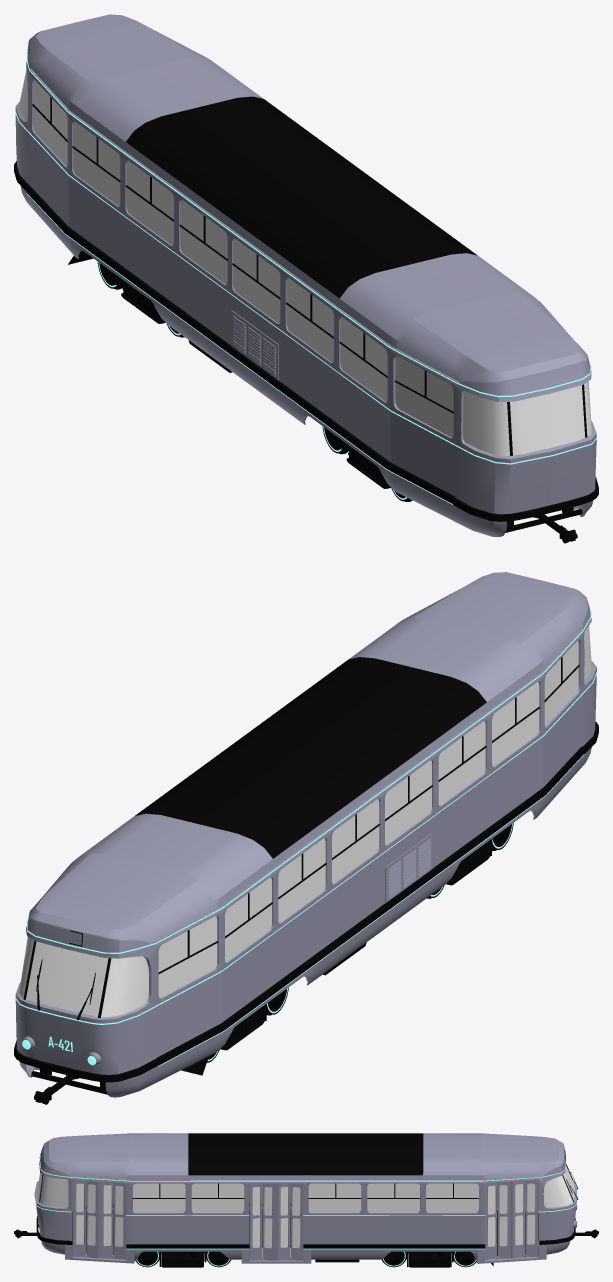
The model's file is SM_Tram.fbx.
3 views of the same model, one above another, from view 1: azimuth 30°, elevation 25°; view 2: azimuth 150°, elevation 25°; view 3: azimuth 270°, elevation 25° (orthographic). The views are drawn at different scales.
Parts seen in each view (by area): view 1: Mesh_Tram; view 2: Mesh_Tram; view 3: Mesh_Tram.
Part boxes in pixels (<box>): Mesh_Tram: <box>14,14,598,543</box>; Mesh_Tram: <box>14,572,598,1104</box>; Mesh_Tram: <box>14,1133,598,1267</box>.
Size of the model in its own units: 144 by 170 by 833.
